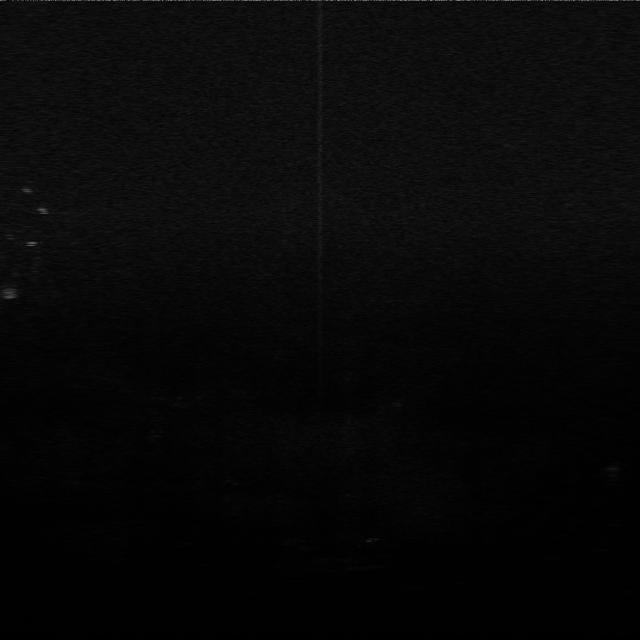rov: (0, 285, 23, 302)
